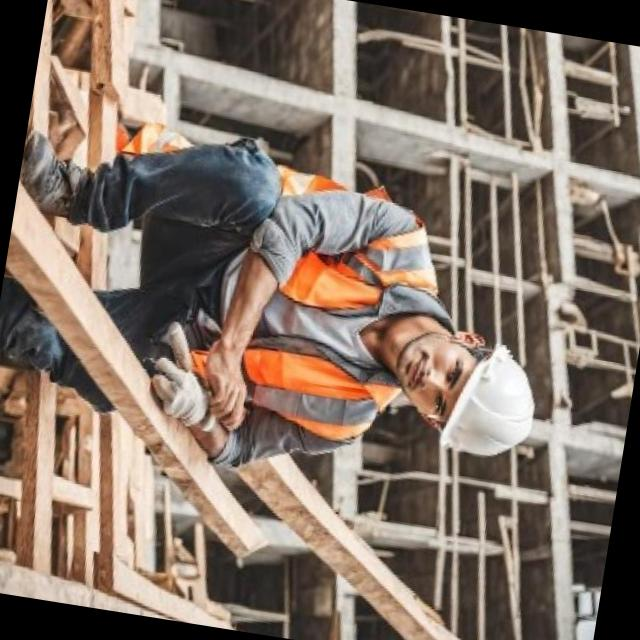gloved: (140, 321, 232, 437)
not-gloved: (196, 321, 266, 436)
